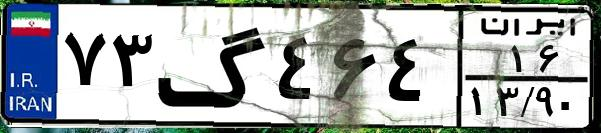0: (560, 70, 590, 125)
1: (508, 27, 537, 80), (470, 70, 495, 125)
3: (110, 28, 156, 98), (495, 70, 520, 125)
4: (270, 28, 330, 110), (385, 28, 445, 110)
6: (330, 28, 385, 110), (537, 27, 568, 80)
7: (57, 26, 110, 100)
9: (535, 70, 560, 125)
گ: (156, 12, 270, 120)
